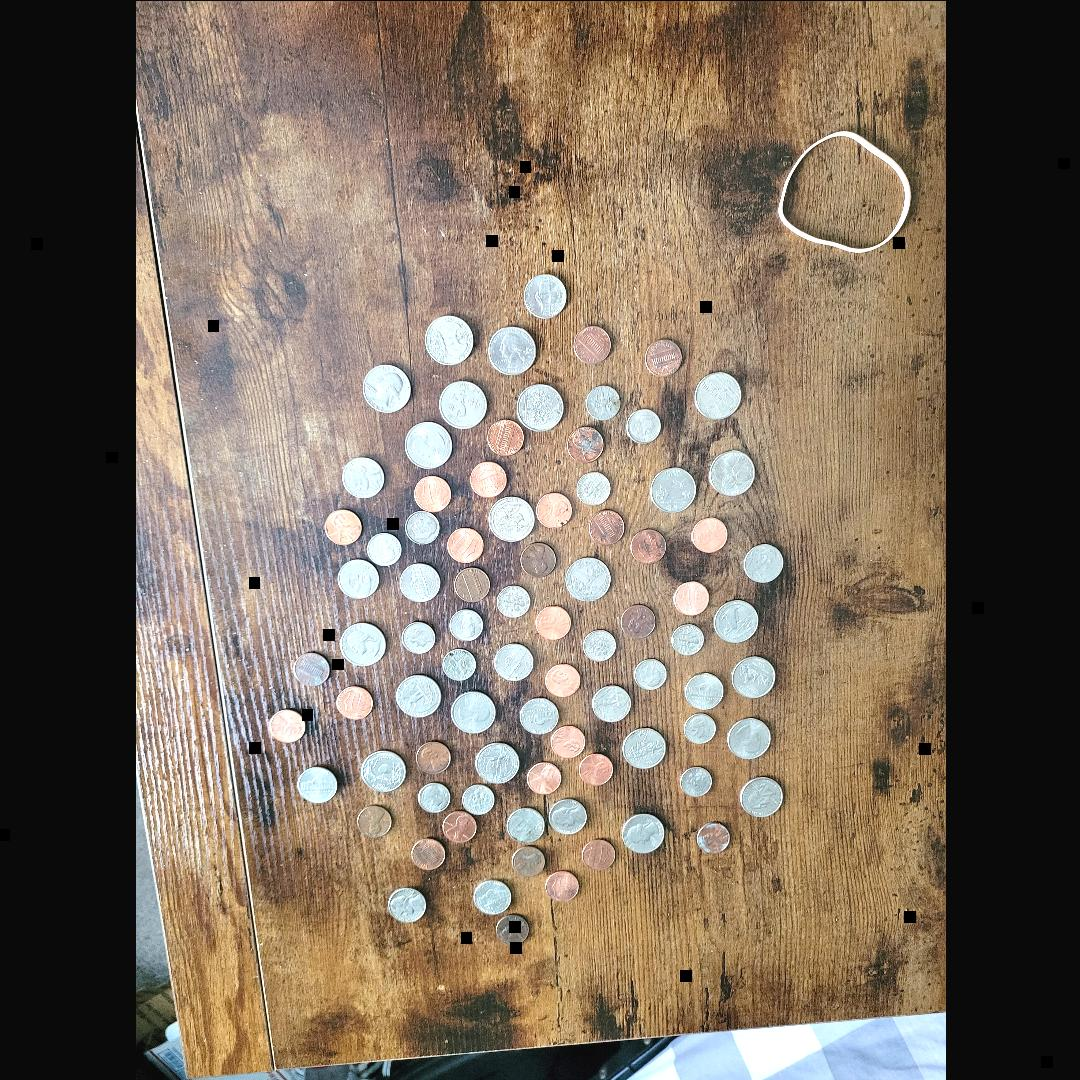Dime: (626, 408, 660, 444), (364, 532, 400, 565), (584, 384, 618, 418), (447, 607, 481, 641), (405, 510, 439, 544), (576, 472, 609, 506), (670, 621, 702, 655), (496, 584, 528, 617), (440, 647, 472, 680), (402, 618, 434, 651), (461, 784, 493, 816), (632, 657, 664, 689), (678, 766, 710, 798), (417, 781, 448, 813), (682, 714, 714, 744), (583, 627, 613, 659)
Nickel: (522, 272, 565, 317), (342, 456, 384, 500), (742, 542, 784, 584), (516, 694, 558, 734), (492, 642, 532, 684), (397, 563, 439, 603), (294, 762, 334, 804), (338, 558, 378, 598), (591, 683, 631, 721), (682, 672, 722, 708), (505, 805, 542, 842), (473, 879, 511, 915), (388, 886, 425, 922), (548, 796, 584, 832)
Penny: (642, 338, 682, 378), (572, 324, 612, 362), (322, 508, 360, 544), (689, 518, 726, 554), (447, 528, 484, 564), (412, 475, 448, 511), (333, 682, 369, 718), (468, 462, 504, 498), (628, 529, 664, 565), (268, 708, 304, 744), (452, 564, 488, 600), (534, 603, 570, 638), (536, 491, 570, 527), (672, 582, 708, 616), (566, 427, 602, 461), (620, 602, 656, 636), (488, 419, 522, 454), (588, 509, 623, 543), (292, 653, 328, 686), (544, 663, 578, 697), (522, 542, 556, 576), (410, 837, 444, 870), (356, 802, 390, 835), (579, 750, 612, 783), (548, 724, 582, 756), (414, 739, 448, 771), (494, 912, 528, 944), (442, 812, 476, 844), (526, 763, 559, 795), (581, 839, 613, 871), (694, 822, 726, 854), (546, 868, 578, 898), (510, 845, 542, 875)
Quarter: (422, 316, 472, 366), (360, 363, 412, 411), (439, 379, 487, 427), (486, 326, 534, 374), (402, 422, 452, 468), (694, 371, 740, 419), (486, 494, 534, 540), (710, 598, 758, 642), (338, 620, 384, 664), (708, 449, 752, 495), (648, 467, 694, 511), (395, 671, 440, 715), (472, 741, 518, 784), (566, 554, 609, 600), (360, 747, 406, 790), (450, 686, 494, 730), (518, 384, 562, 428), (727, 656, 772, 698), (622, 725, 664, 768), (725, 716, 767, 758), (621, 812, 663, 854), (741, 774, 783, 816)
